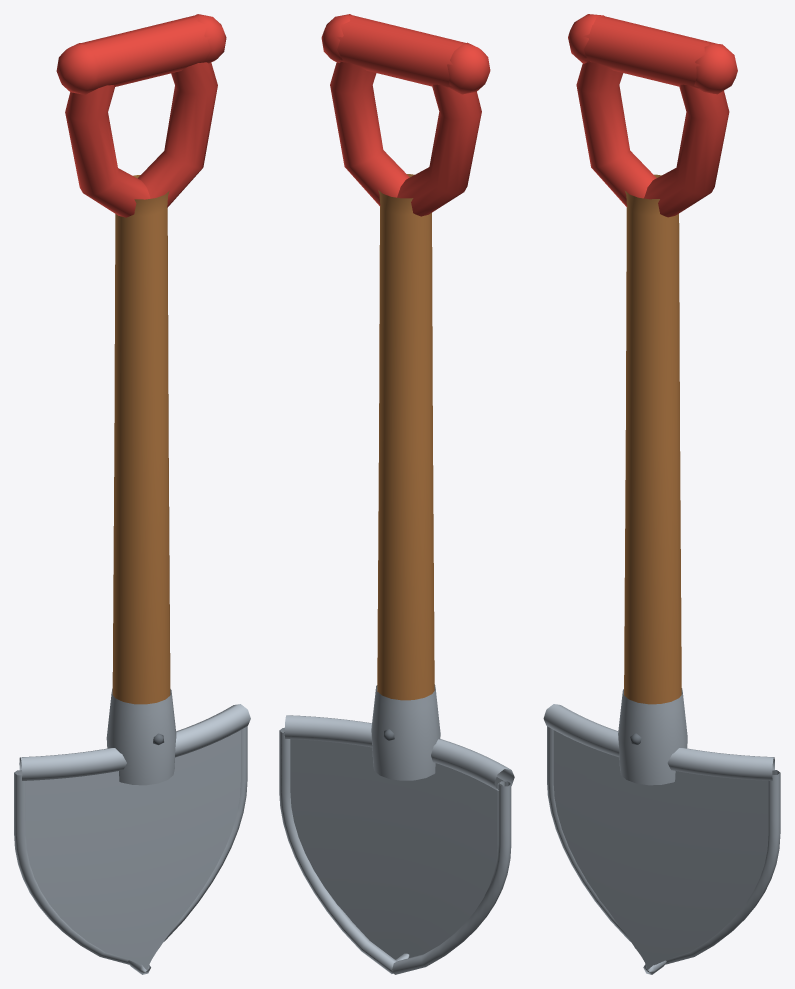
File: style_shovel.glb
3 renders of one model, left to right at view 1: azimuth 30°, elevation 25°; view 2: azimuth 150°, elevation 25°; view 3: azimuth 330°, elevation 25°, orthographic.
Parts seen in each view (by area): view 1: style_shovel_main, style_shovel_gloss; view 2: style_shovel_gloss, style_shovel_main; view 3: style_shovel_main, style_shovel_gloss.
Part boxes in pixels (bbox=[...]): style_shovel_main: bbox=[56, 14, 226, 704]; style_shovel_gloss: bbox=[14, 688, 250, 974]; style_shovel_gloss: bbox=[279, 684, 514, 974]; style_shovel_main: bbox=[321, 14, 490, 700]; style_shovel_main: bbox=[568, 14, 737, 704]; style_shovel_gloss: bbox=[543, 688, 780, 974].
Size of the model in its own units: 0.2721 by 1.06 by 0.0799.
